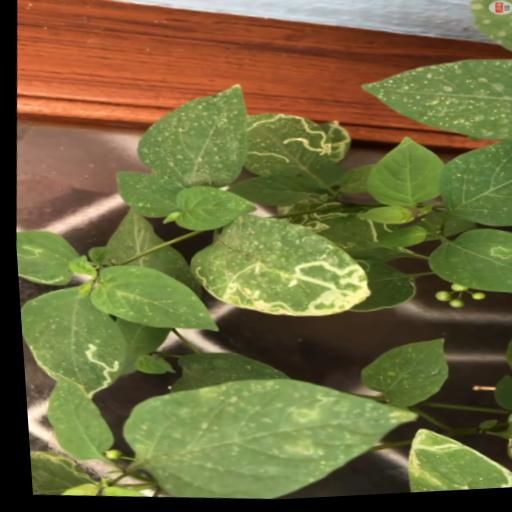Leaf_Miner: (175, 204, 378, 329), (15, 282, 128, 406), (224, 108, 354, 190), (272, 208, 412, 272), (393, 426, 512, 497), (419, 226, 512, 302), (12, 224, 80, 289)
